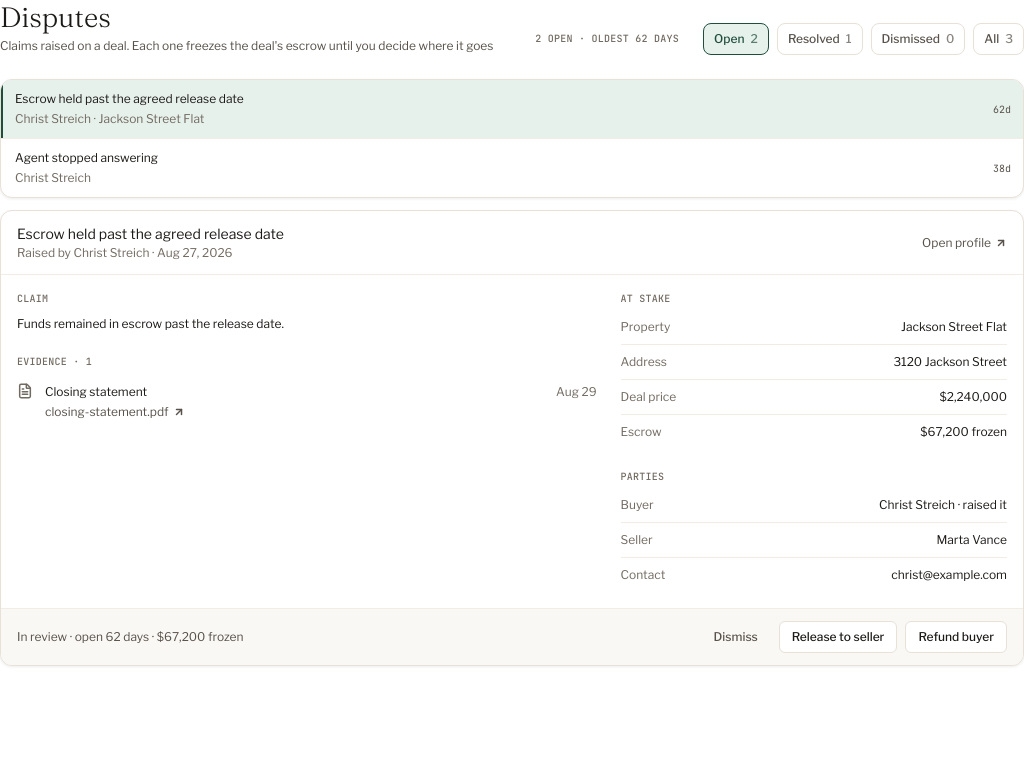
Test: AdminDisputesConsole · 03 deciding › 3.4 releases with the trimmed note and the outcome RELEASE, once, then closes
The image size is (1024, 768).
Click the button "Release to seller": (838, 637) x1=779 y1=621 x2=897 y2=653
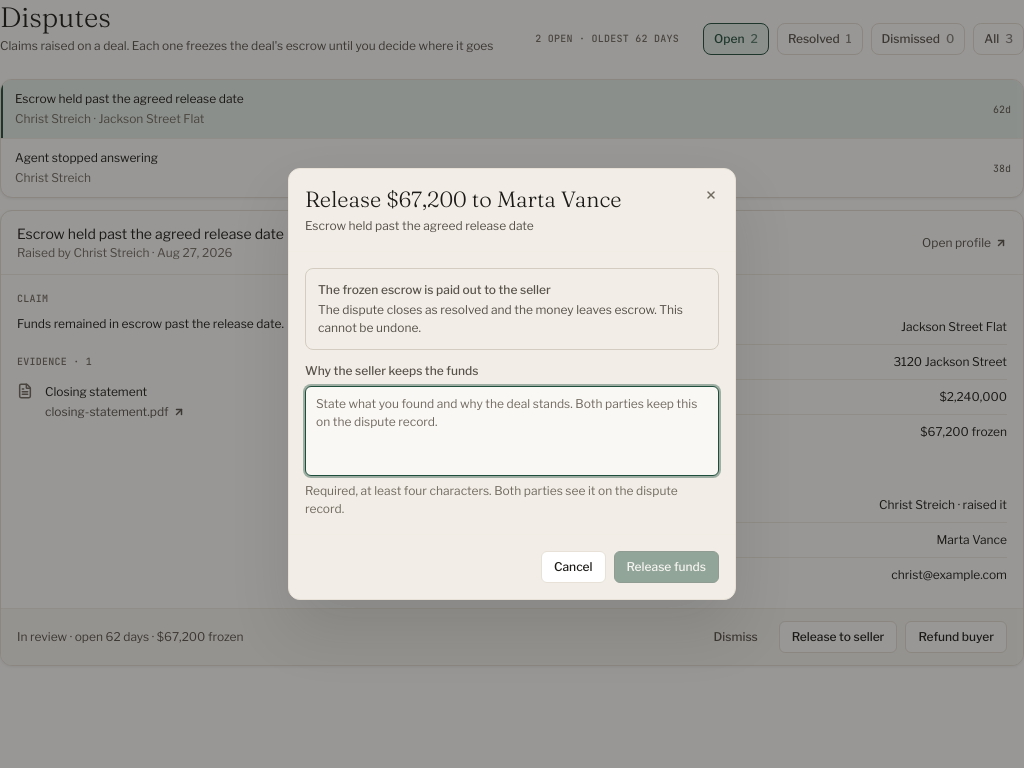
In the text box labelled "Why the seller keeps the funds": (512, 431) x1=305 y1=386 x2=719 y2=476, type "  The inspection report backs the buyer  "
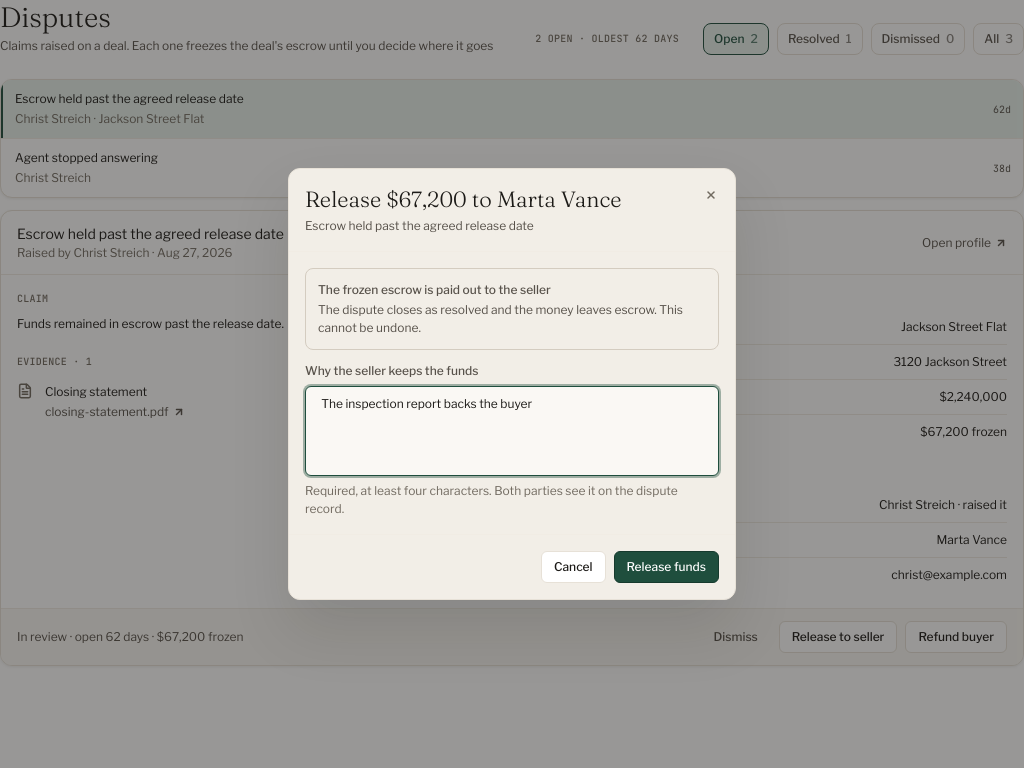
Click the button "Release funds": (666, 567) x1=614 y1=551 x2=719 y2=583
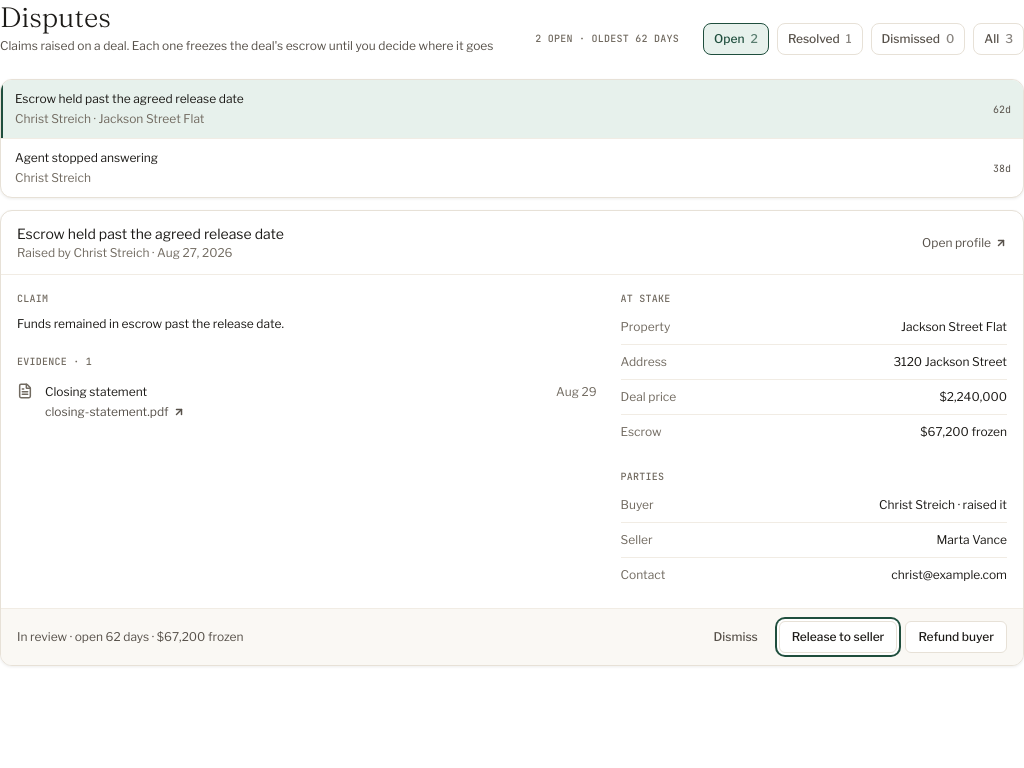
Now the dialog is gone
